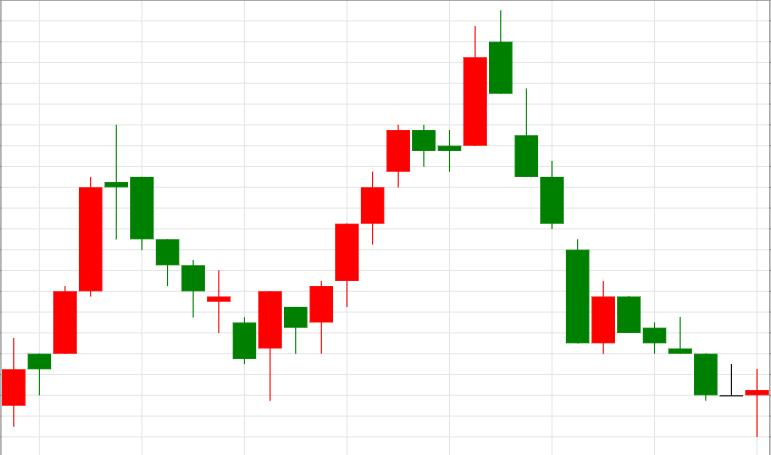bullish_engulfing_rise: (104, 124, 282, 401)
three_black_crows_fall: (309, 9, 564, 354)
